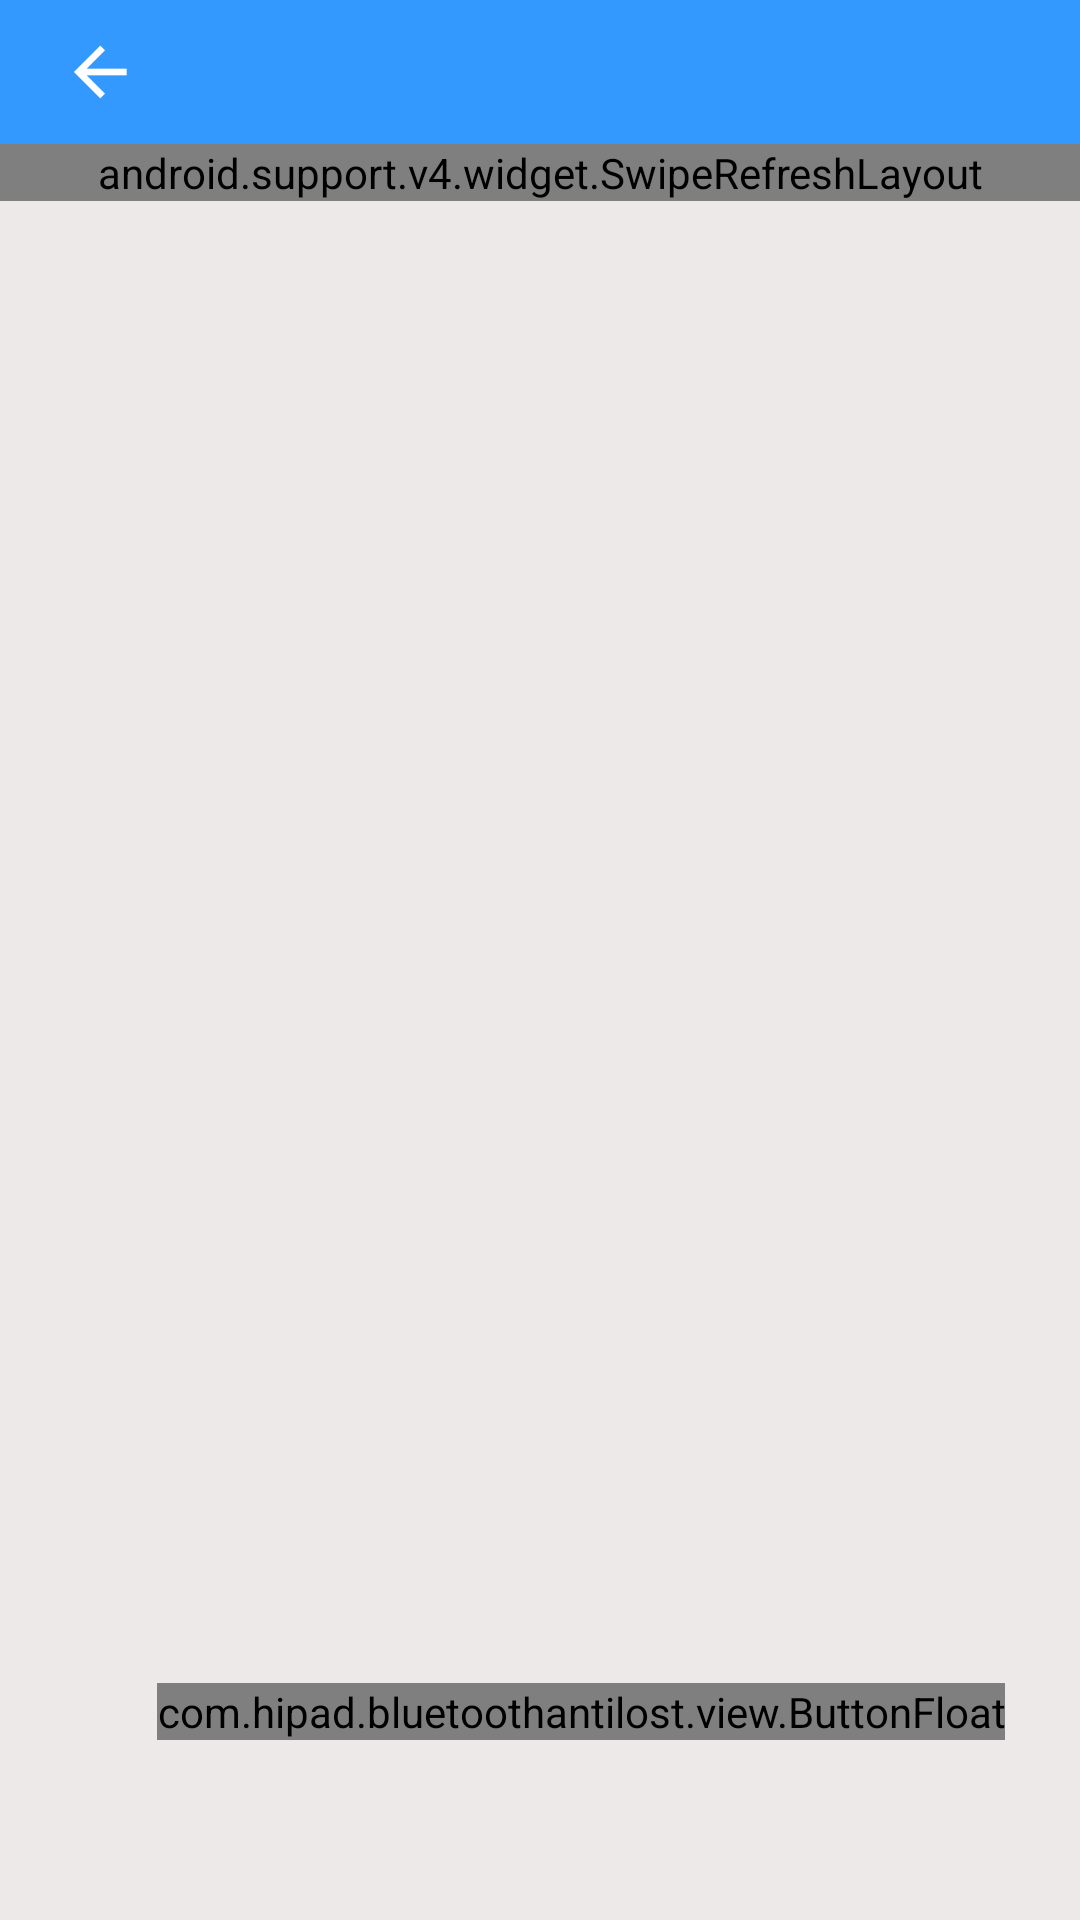

Named icons in this screenshot (1080*1920) and their bounding boxes, (x1, y1, x2, y2):
back: (74, 45, 127, 99)
